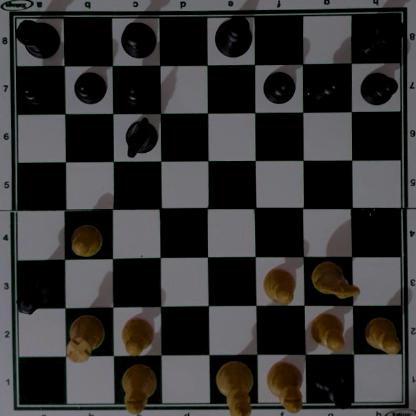black-bishop: (312, 358, 354, 411), (117, 21, 158, 58)
black-king: (214, 15, 255, 58)
black-knight: (122, 118, 159, 158)
black-pawn: (360, 69, 396, 105), (20, 71, 54, 104), (263, 69, 295, 103), (311, 67, 343, 100), (73, 70, 104, 104), (121, 71, 152, 105)
black-queen: (17, 264, 61, 316)
black-rook: (12, 16, 60, 58), (358, 12, 404, 55)
white-bishop: (121, 361, 158, 414), (265, 361, 302, 411)
white-king: (215, 360, 253, 416)
white-knight: (308, 258, 362, 301)
white-pawn: (308, 310, 346, 351), (120, 314, 154, 355), (67, 221, 105, 257), (363, 316, 400, 352), (262, 266, 295, 304)
white-rook: (65, 311, 105, 363)
